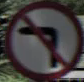Don't turn left: (13, 10, 67, 74)
